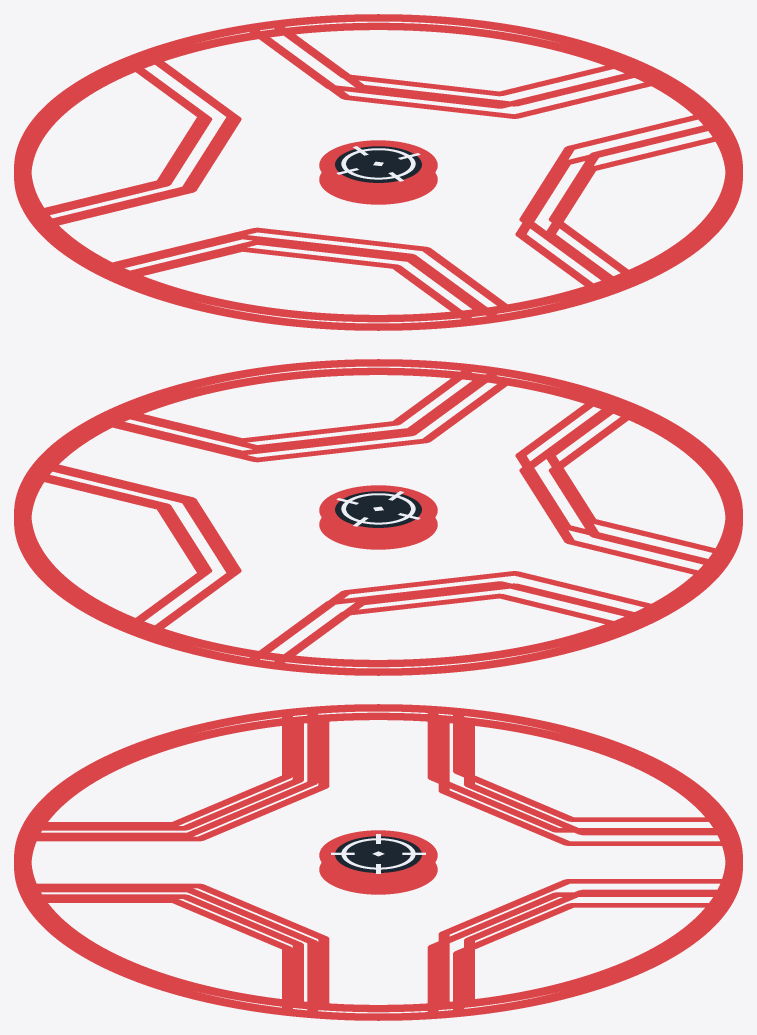
3 renders of one model, top to bottom at view 1: azimuth 30°, elevation 25°; view 2: azimuth 150°, elevation 25°; view 3: azimuth 270°, elevation 25°, orthographic.
Size of the model in its own units: 18.44 by 0.48 by 18.44.
Materials: 8 (8 with a texture image).
